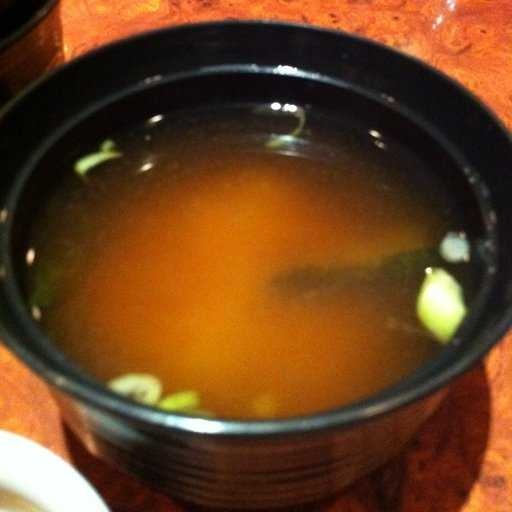soup: (12, 61, 467, 422)
